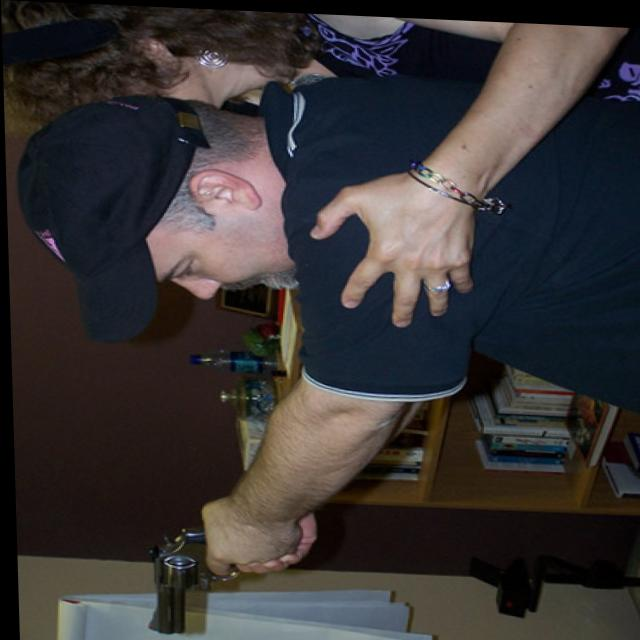handgun: (138, 519, 235, 635)
